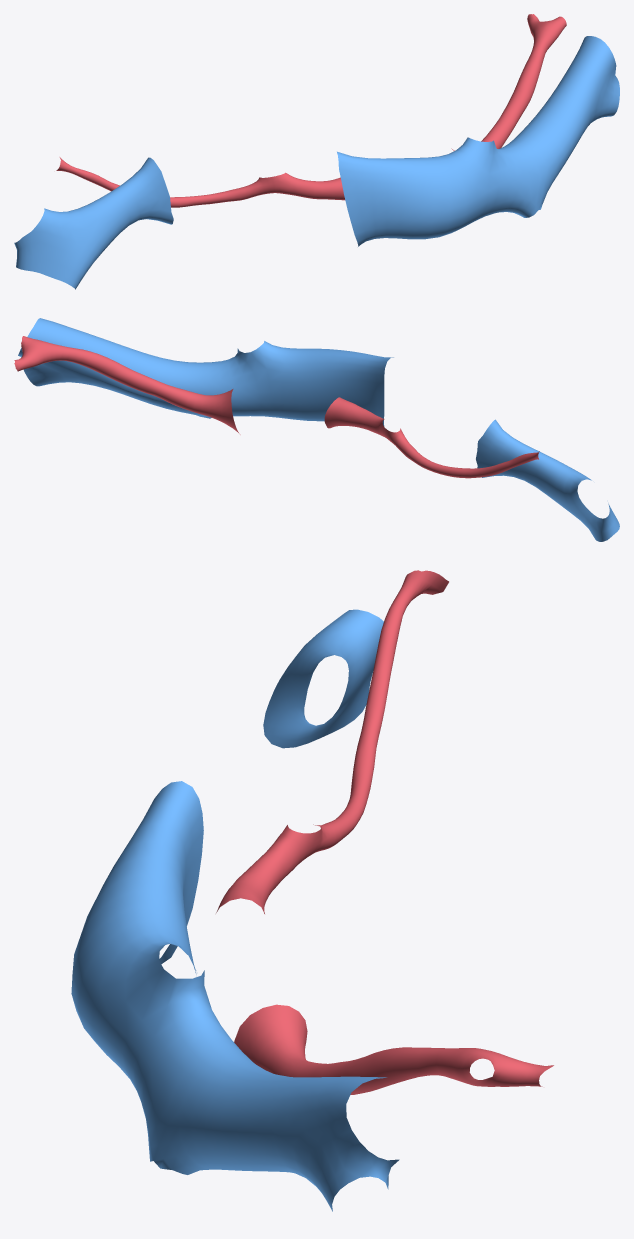
The model's file is VH_M_Blood_Vasculature_Kidney.glb.
3 views of the same model, one above another, from view 1: azimuth 30°, elevation 25°; view 2: azimuth 150°, elevation 25°; view 3: azimuth 270°, elevation 25° (orthographic). The views are drawn at different scales.
Visible parts, largest first — view 1: VH_M_renal_vein_L, VH_M_renal_vein_R, VH_M_left_renal_artery, VH_M_right_renal_artery; view 2: VH_M_renal_vein_L, VH_M_renal_vein_R, VH_M_right_renal_artery, VH_M_left_renal_artery; view 3: VH_M_renal_vein_L, VH_M_right_renal_artery, VH_M_left_renal_artery, VH_M_renal_vein_R.
Boxes of the visible parts, x1,y1,x2,y2 form: VH_M_renal_vein_L: (337, 36, 619, 246); VH_M_renal_vein_R: (14, 157, 173, 289); VH_M_left_renal_artery: (56, 157, 344, 207); VH_M_right_renal_artery: (451, 14, 566, 150); VH_M_renal_vein_L: (18, 318, 393, 426); VH_M_renal_vein_R: (476, 419, 619, 541); VH_M_right_renal_artery: (14, 336, 240, 434); VH_M_left_renal_artery: (324, 397, 539, 478); VH_M_renal_vein_L: (71, 781, 399, 1211); VH_M_right_renal_artery: (234, 1004, 553, 1094); VH_M_left_renal_artery: (216, 570, 448, 913); VH_M_renal_vein_R: (263, 609, 383, 748).
Bounding box in the file's own units: 0.123 × 0.022 × 0.0445.
